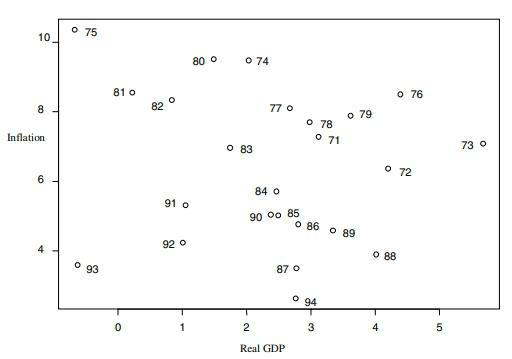axis: (50, 304, 502, 315), (50, 14, 62, 313)
point: (395, 89, 408, 100), (382, 162, 395, 173), (369, 250, 383, 260), (285, 103, 297, 114), (304, 116, 315, 128), (271, 185, 283, 196), (327, 225, 338, 237), (180, 199, 192, 210), (72, 260, 84, 271), (289, 293, 302, 303), (291, 264, 304, 274), (293, 218, 304, 229), (478, 138, 489, 149), (209, 54, 221, 64), (224, 143, 236, 153), (178, 238, 190, 248), (69, 25, 81, 35), (128, 88, 139, 98), (314, 131, 324, 142), (264, 210, 275, 220), (273, 210, 284, 220), (345, 111, 356, 121), (168, 95, 178, 105), (243, 56, 255, 64)
